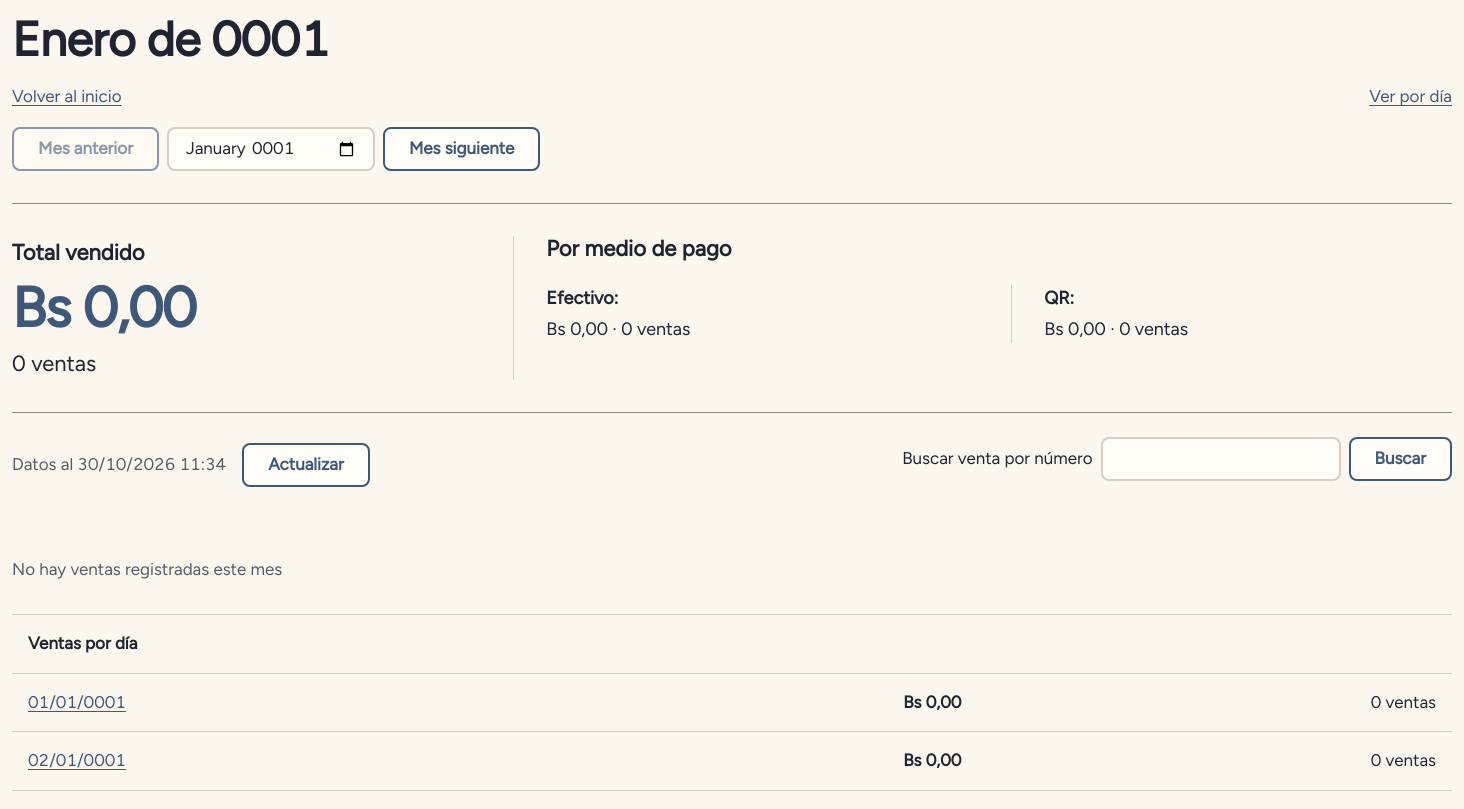
Test: pantalla mensual (T025, RF-5, RF-6, RF-9, RF-11 a RF-13, RNF-4) › el primer mes no retrocede y mantiene las cuatro cifras al avanzar
Expected: the heading "Enero de 0001" is shown, [12, 12, 329, 67]
Expected: the button "Mes anterior" is disabled, [12, 127, 159, 171]
Click the button "Mes siguiente" at (462, 149), box [383, 127, 540, 171]
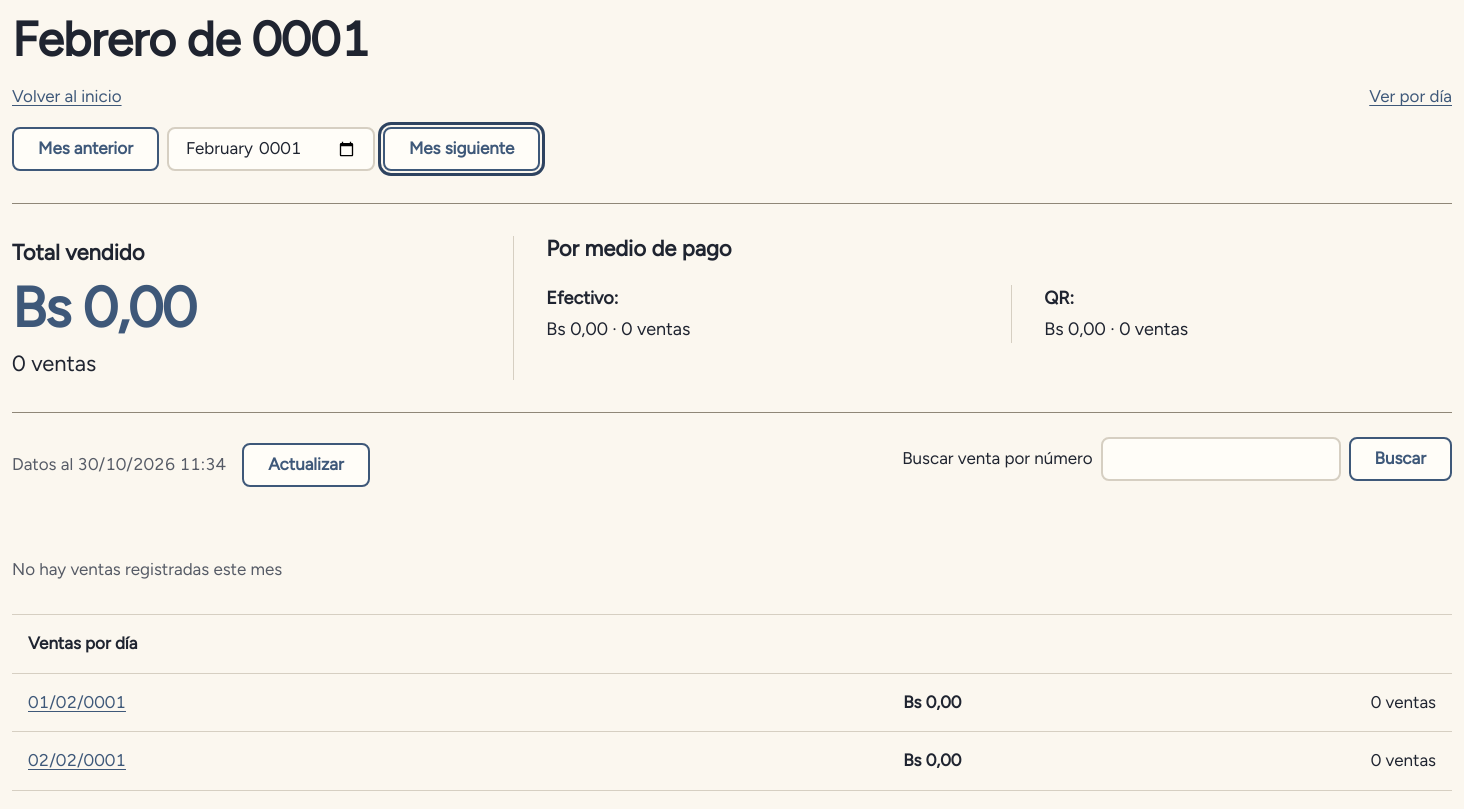
Now the heading "Febrero de 0001" is shown, box [12, 12, 369, 67]
